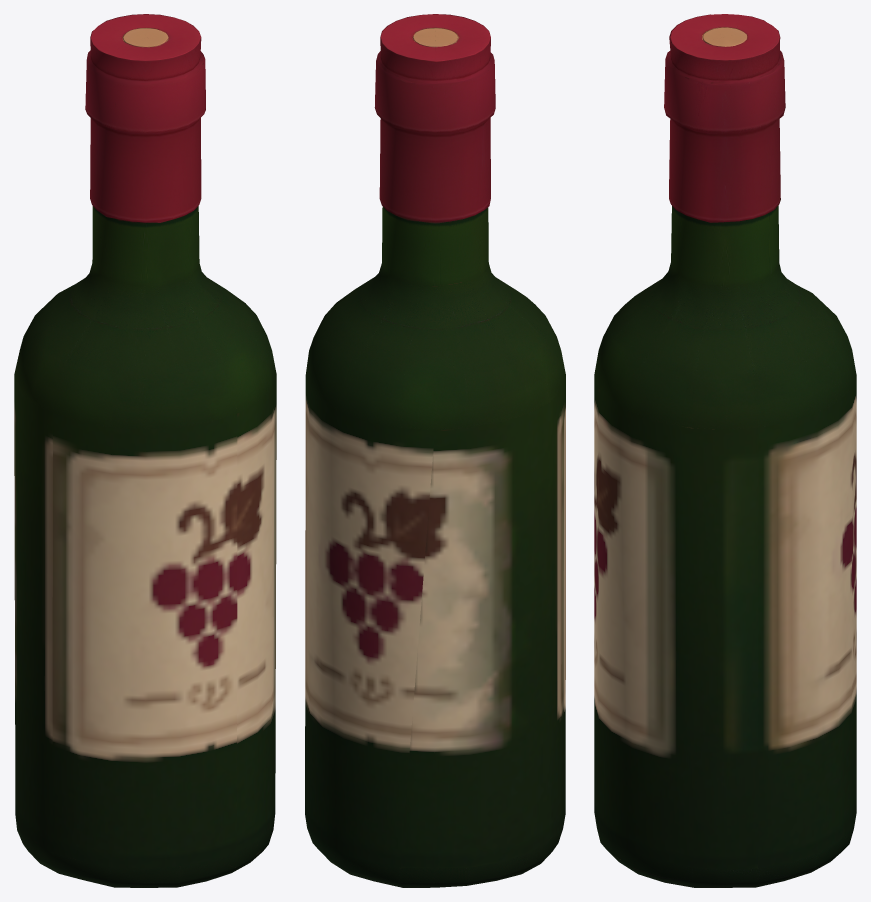
File: wine_bottle.glb
The picture shows the model from 3 angles, left to right: view 1: azimuth 30°, elevation 25°; view 2: azimuth 150°, elevation 25°; view 3: azimuth 270°, elevation 25°; orthographic projection.
Bounding box in the file's own units: 0.2979 × 1 × 0.2959.
1 material, 1 textured.
